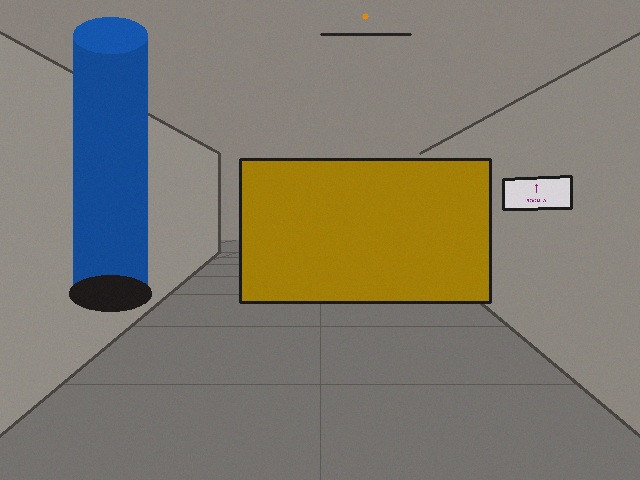directional_sign: (503, 176, 571, 209)
forklift: (240, 16, 490, 302)
person: (73, 35, 147, 293)
